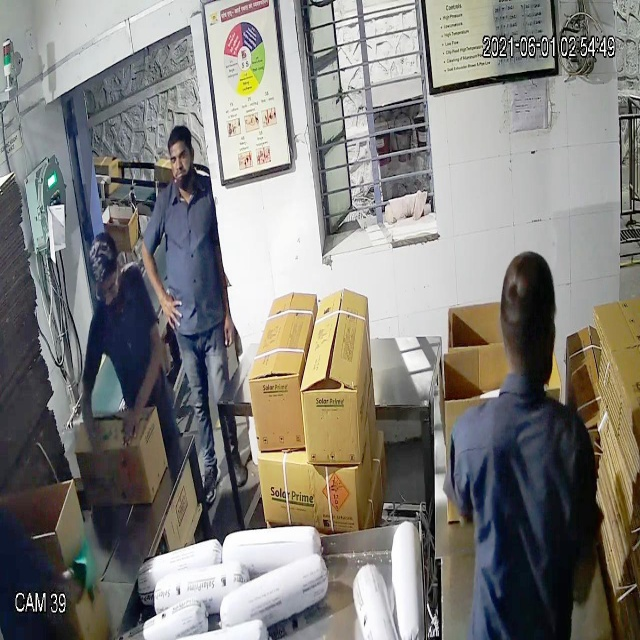Sin_gafas: (158, 140, 202, 176)
